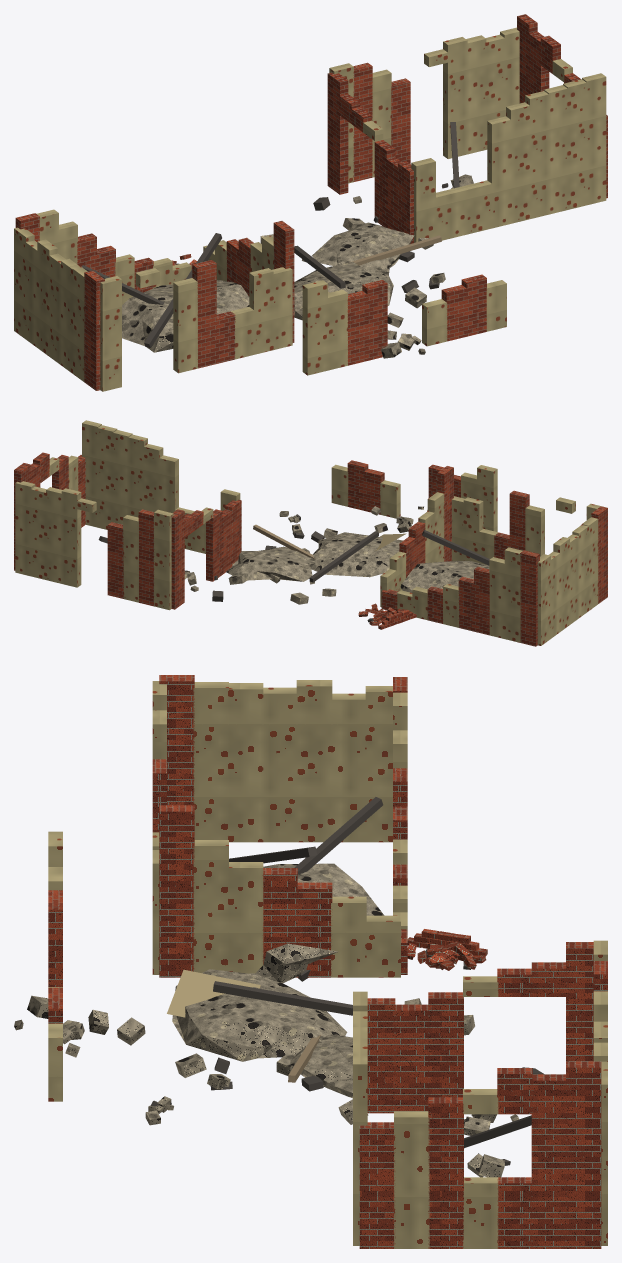
The model's file is ruinset_compound.glb.
The picture shows the model from 3 angles, top to bottom: view 1: azimuth 30°, elevation 25°; view 2: azimuth 150°, elevation 25°; view 3: azimuth 270°, elevation 25°; orthographic projection. The views are drawn at different scales.
Parts seen in each view (by area): view 1: ruinset_compound-col; view 2: ruinset_compound-col; view 3: ruinset_compound-col.
Part boxes in pixels (bbox=[...]): ruinset_compound-col: bbox=[14, 14, 607, 391]; ruinset_compound-col: bbox=[14, 420, 607, 646]; ruinset_compound-col: bbox=[14, 675, 607, 1248].
Size of the model in its own units: 12.25 by 2.58 by 7.41.
6 materials, 3 textured.
